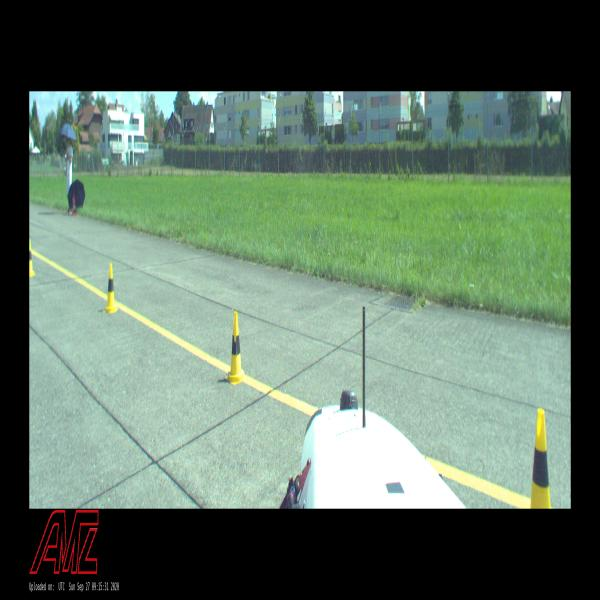yellow_cone: (530, 408, 551, 508), (225, 311, 246, 386), (103, 263, 118, 314), (30, 239, 36, 277)
